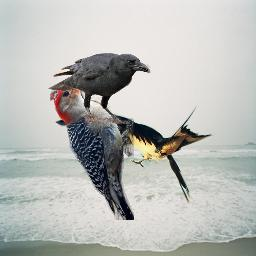Crow: (48, 53, 151, 124)
Swallow: (52, 104, 242, 203)
Woodpecker: (50, 68, 134, 220)
